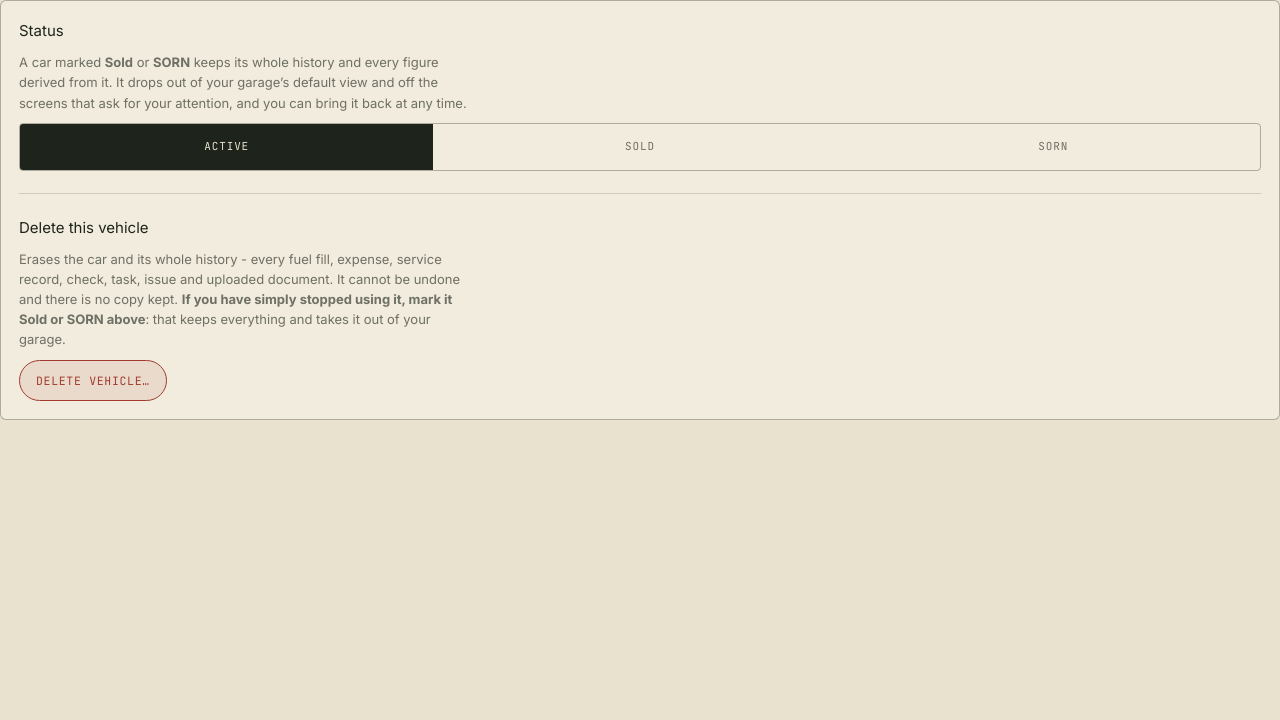
Test: deleting a vehicle › accepts the plate in any case or spacing
This screenshot has width=1280, height=720.
Click the button "Delete vehicle…": point(93, 380) 19,360 -> 167,401
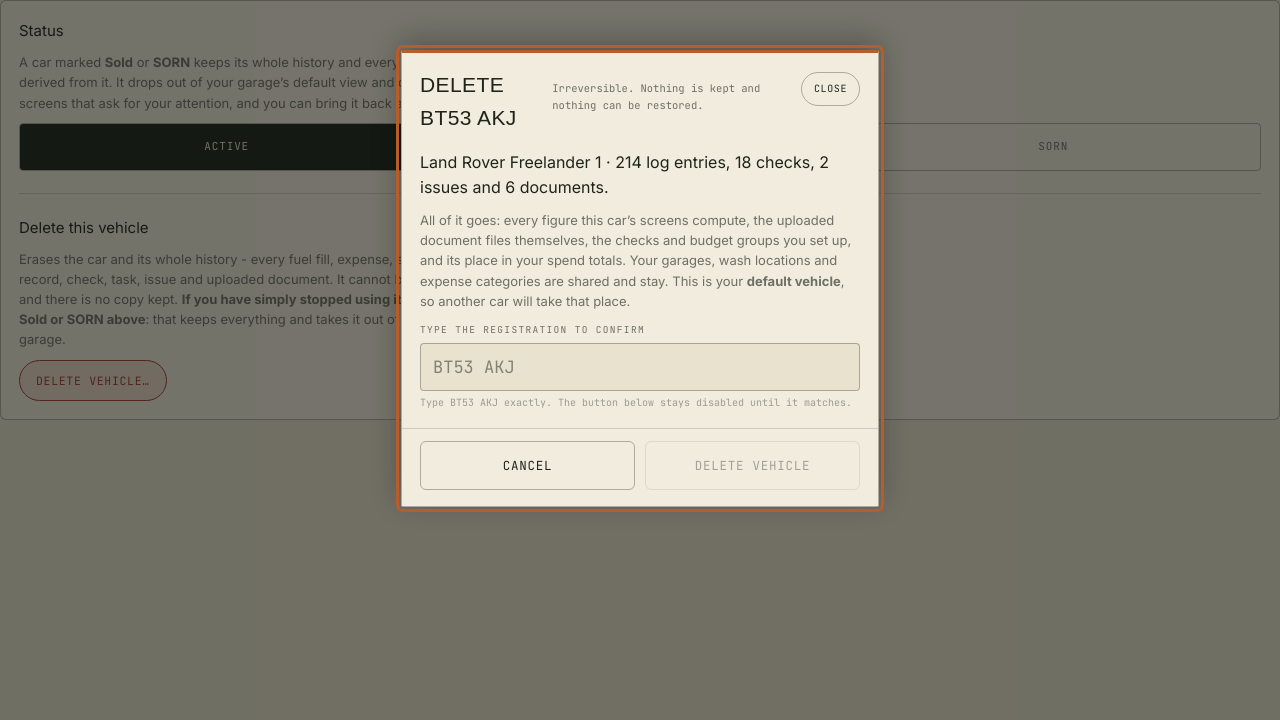
In the field labelled "Type the registration to confirm": point(640, 367) 420,342 -> 860,391, type "bt53akj"
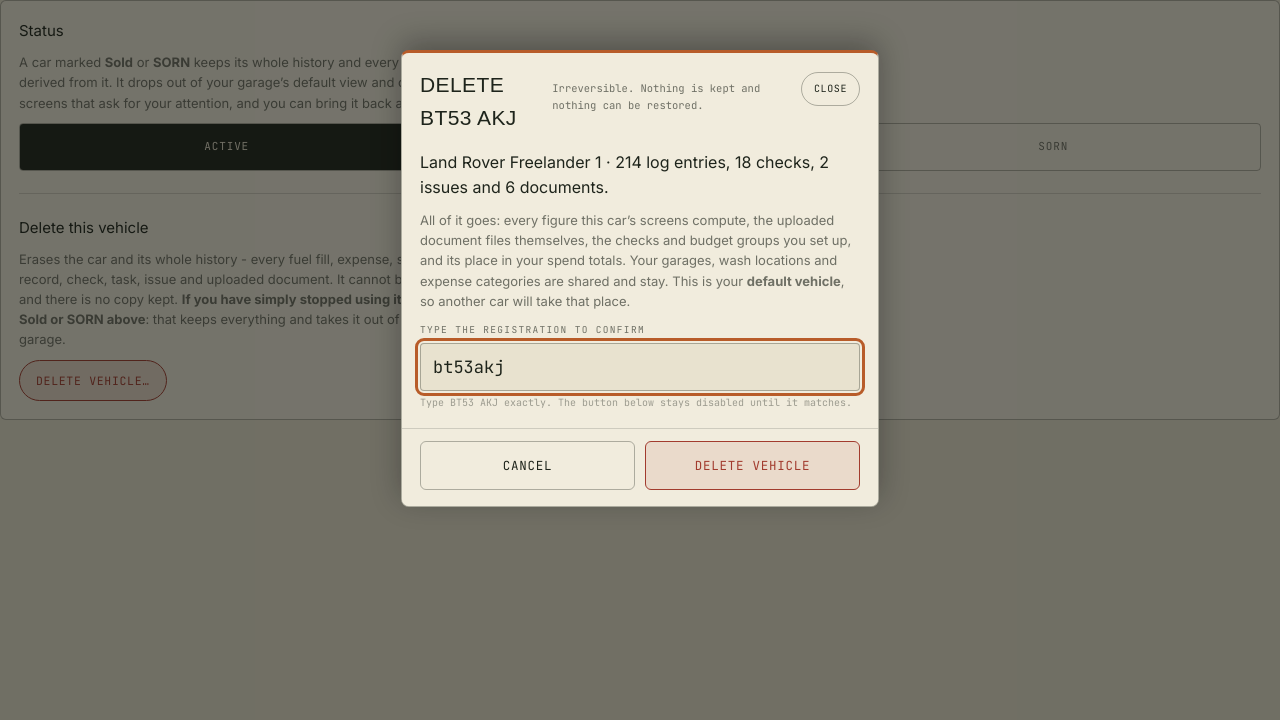
Result: the button "Delete vehicle" is enabled at 645,441 -> 860,490
